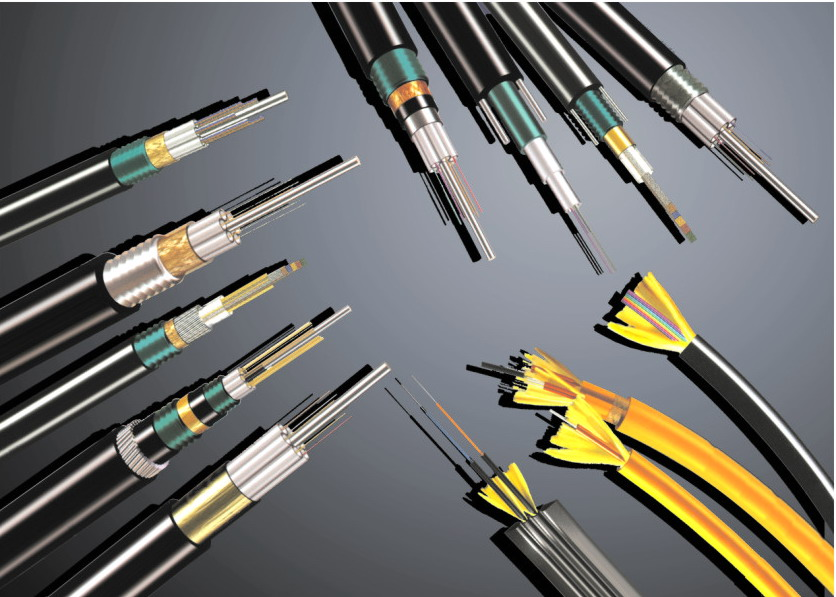Nonrec_Tangler: (1, 80, 388, 591), (307, 1, 822, 267), (386, 288, 830, 590)
